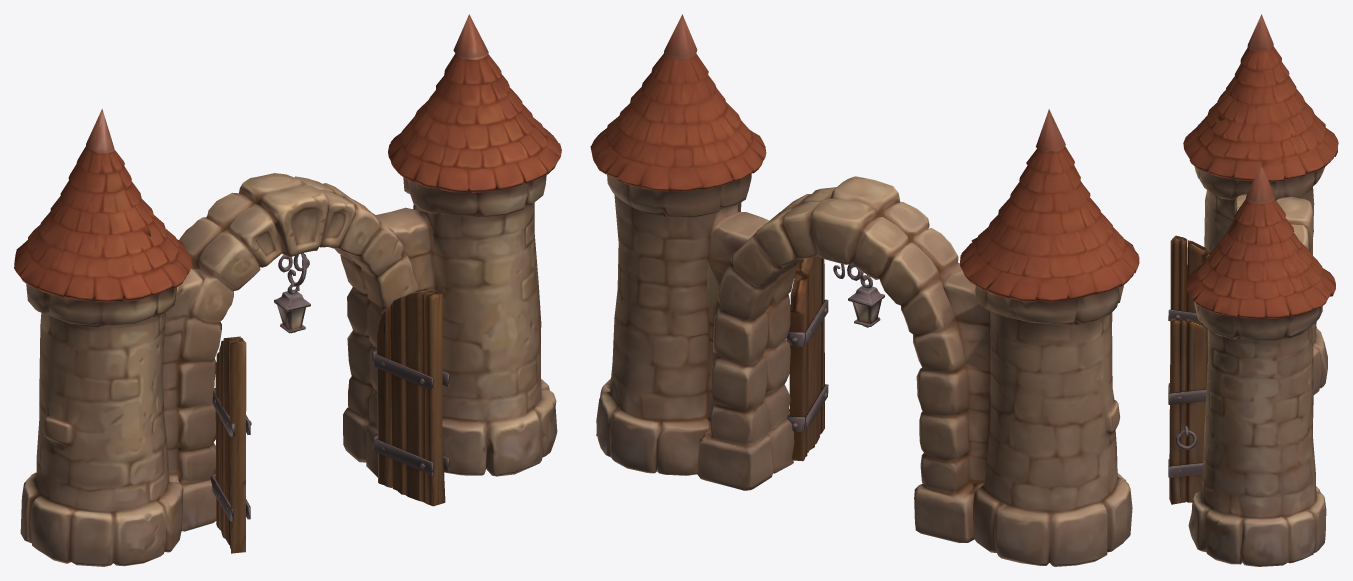
File: town_gate.glb
The picture shows the model from 3 angles, left to right: view 1: azimuth 30°, elevation 25°; view 2: azimuth 150°, elevation 25°; view 3: azimuth 270°, elevation 25°; orthographic projection. The views are drawn at different scales.
Visible parts, largest first — view 1: geometry_0; view 2: geometry_0; view 3: geometry_0.
Part boxes in pixels (x1,y1,x2,y2): geometry_0: (14, 14, 561, 566); geometry_0: (590, 14, 1139, 566); geometry_0: (1168, 14, 1338, 566).
Size of the model in its own units: 0.9502 by 0.75 by 0.3096.
Materials: 1 (1 with a texture image).
